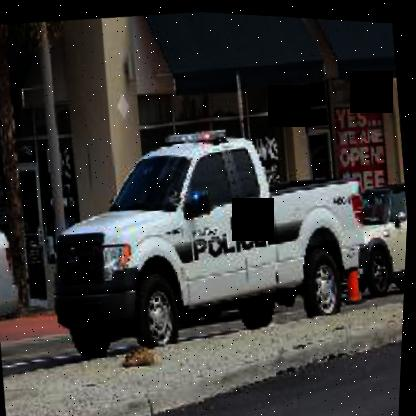emergency: (8, 87, 412, 400)
